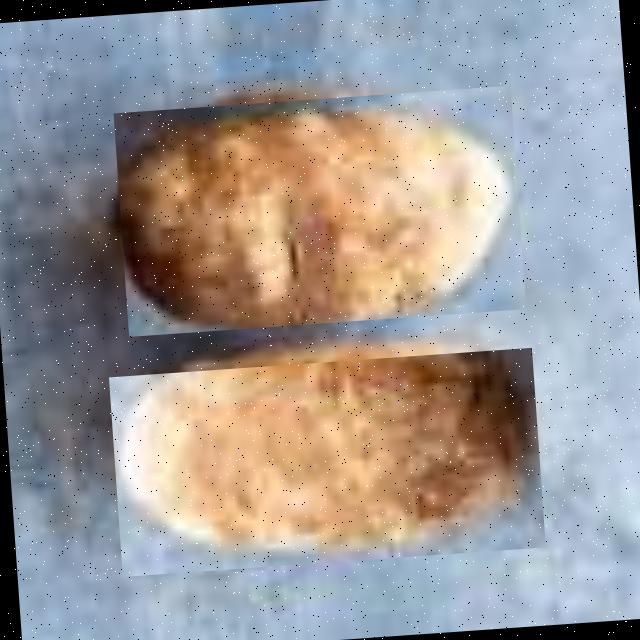Damaged potato: (113, 84, 526, 336), (109, 347, 546, 576)
